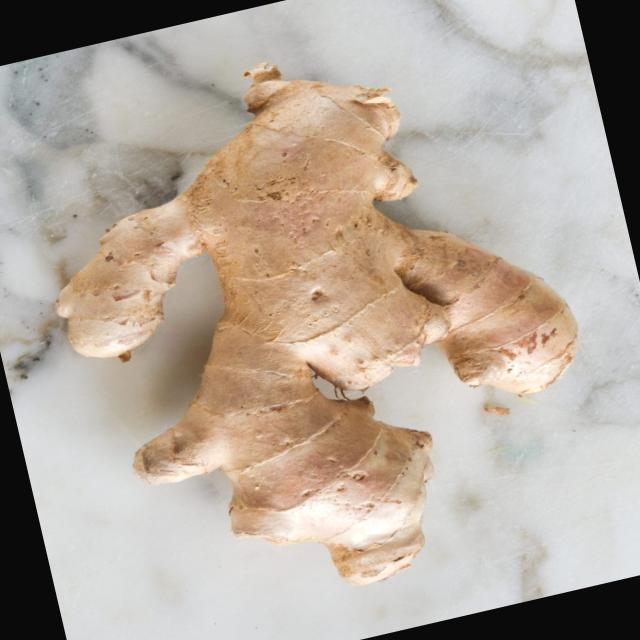ginger-root: (0, 0, 638, 640)
